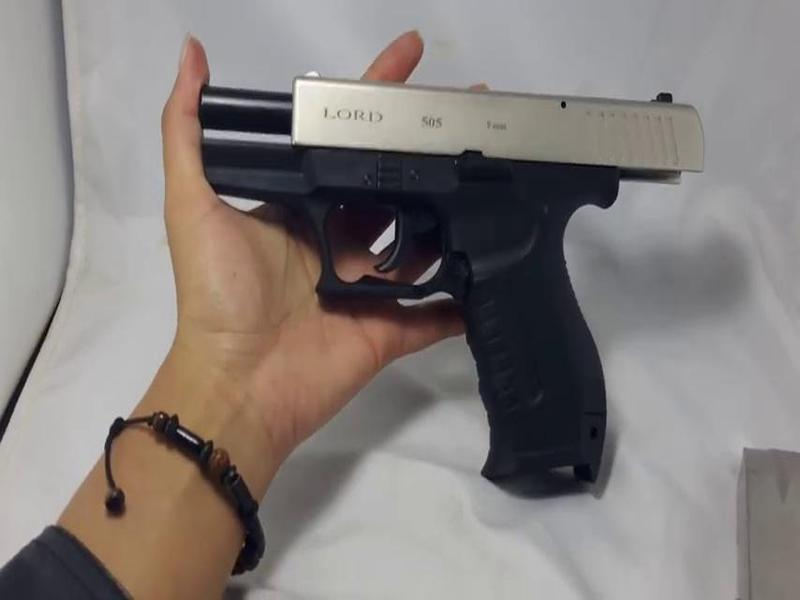Pistola: (153, 66, 710, 497)
